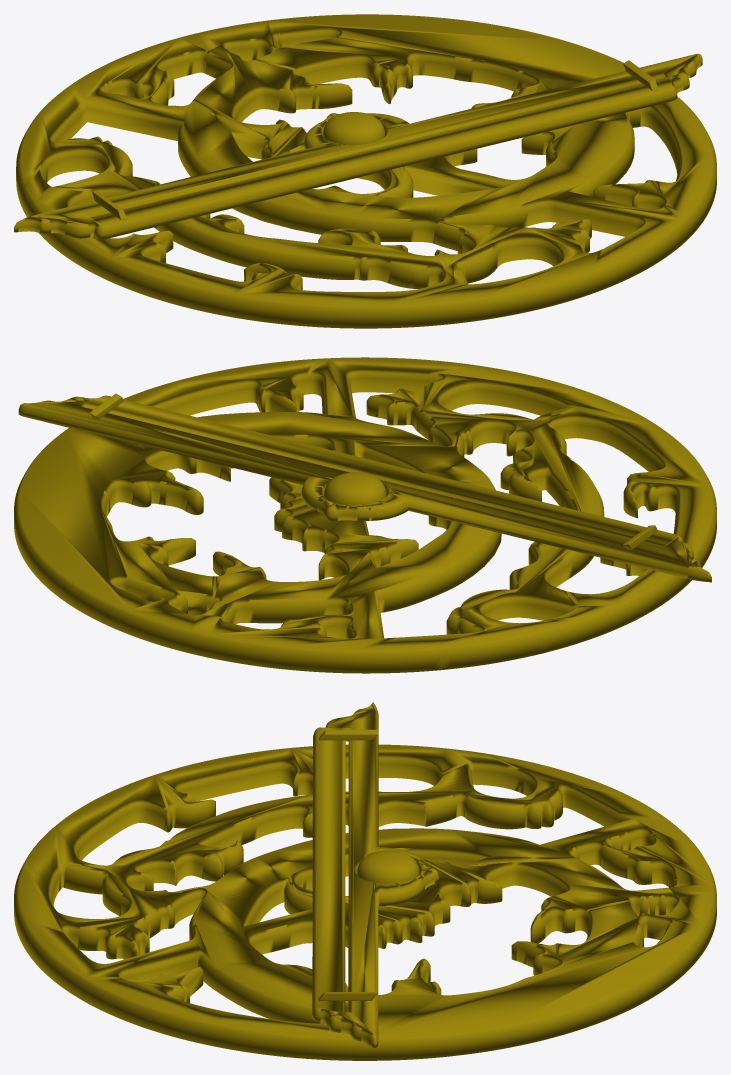
The model's file is astro1.glb.
3 views of the same model, one above another, from view 1: azimuth 30°, elevation 25°; view 2: azimuth 150°, elevation 25°; view 3: azimuth 270°, elevation 25° (orthographic).
Parts seen in each view (by area): view 1: uss, Object415; view 2: uss, Object415; view 3: uss, Object415.
Boxes of the visible parts, left/top/right/bottom form: uss: left=14, top=14, right=716, bottom=328; Object415: left=323, top=112, right=384, bottom=144; uss: left=14, top=357, right=716, bottom=673; Object415: left=324, top=472, right=386, bottom=505; uss: left=14, top=702, right=716, bottom=1060; Object415: left=357, top=850, right=419, bottom=883.
Size of the model in its own units: 11.63 by 0.8826 by 10.22.
